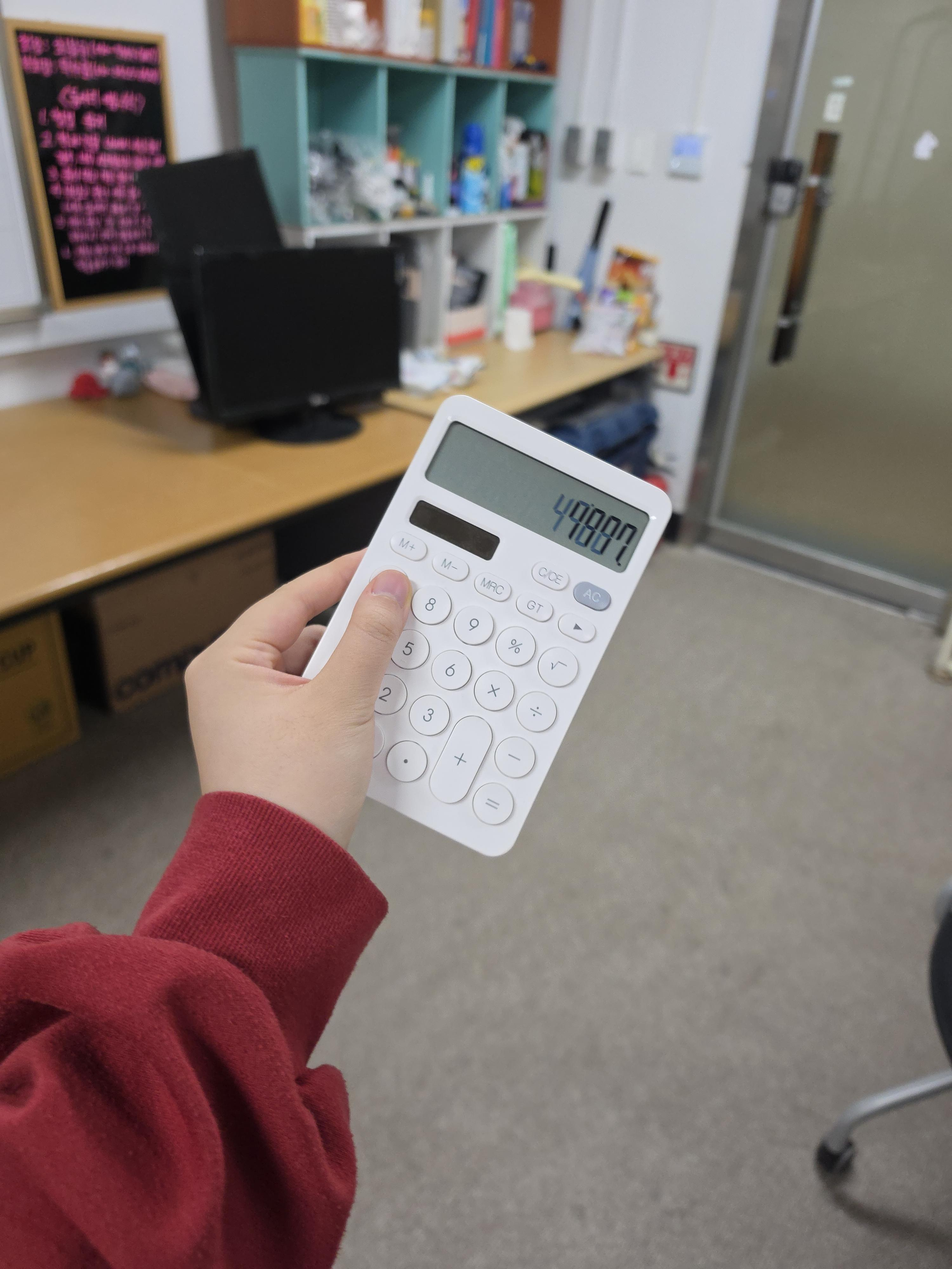calculator: (302, 395, 674, 858)
